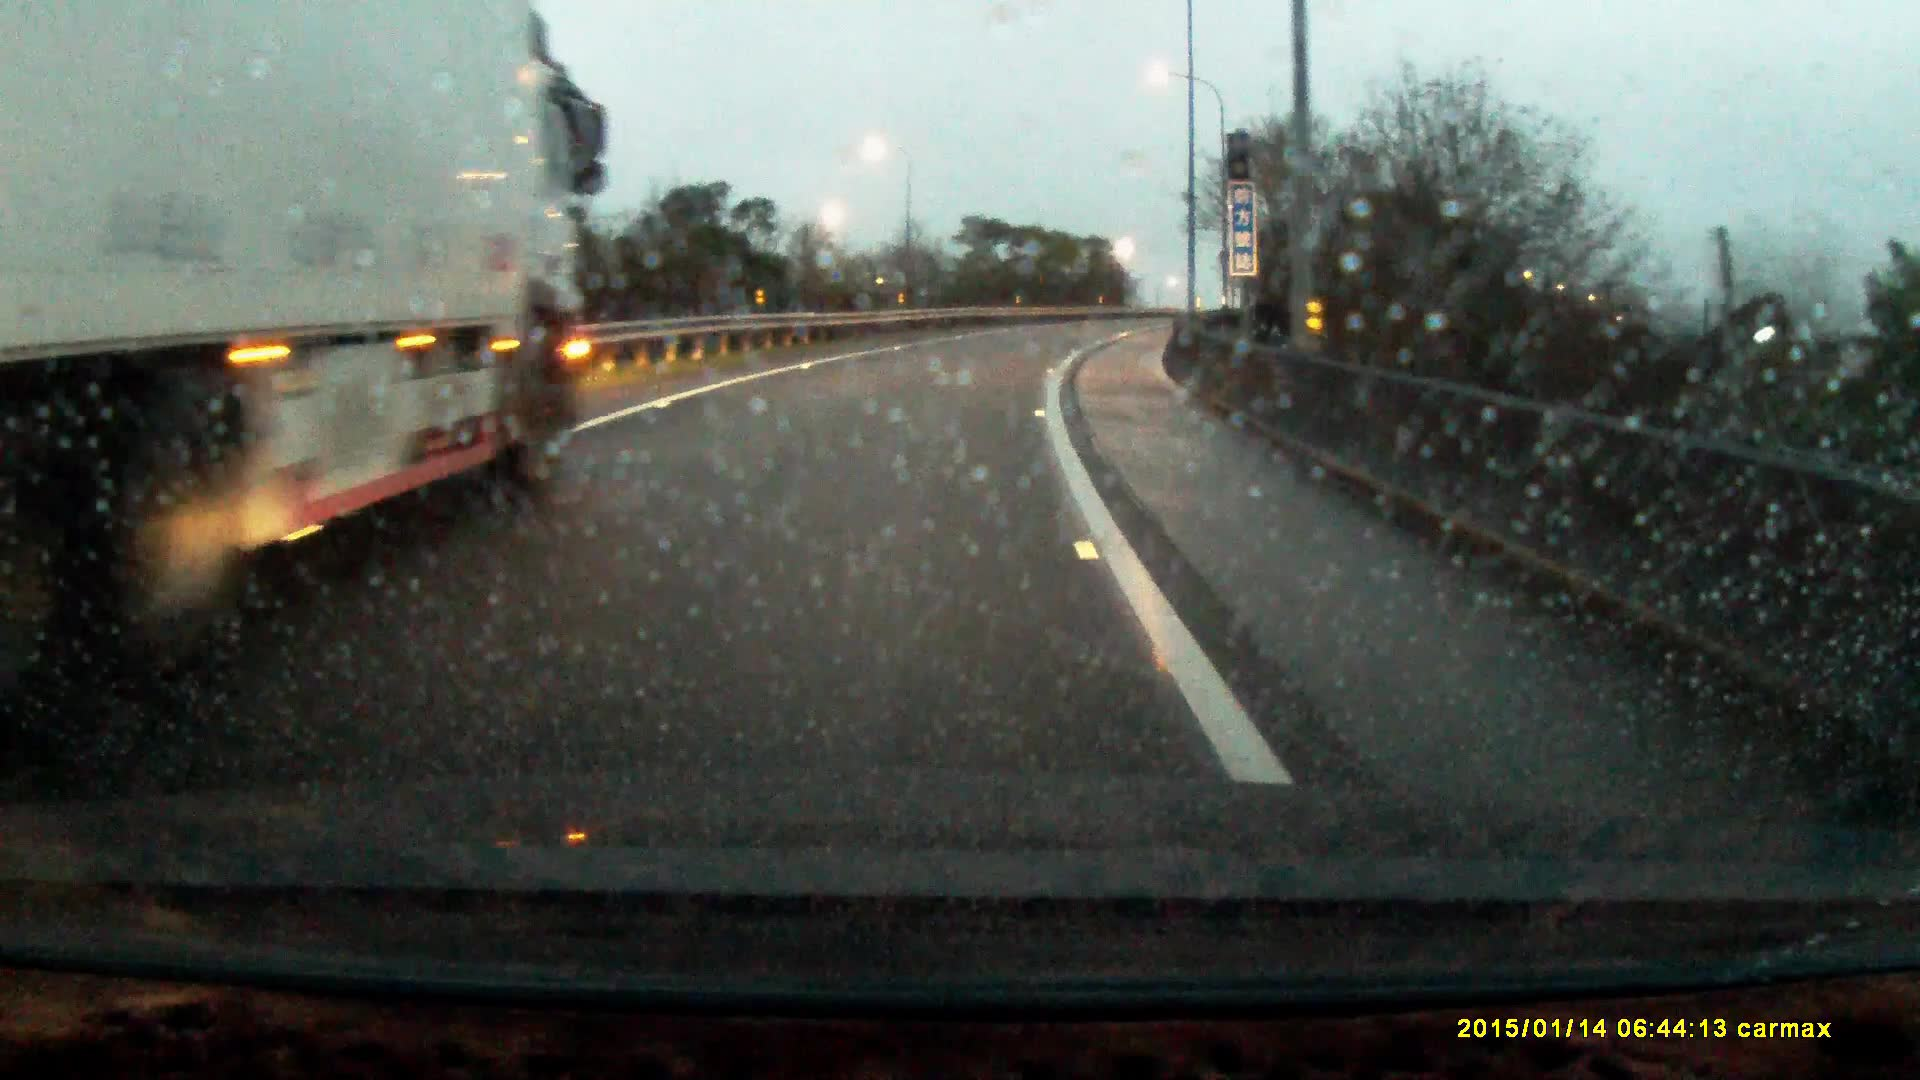vehicle: (1, 1, 612, 640)
